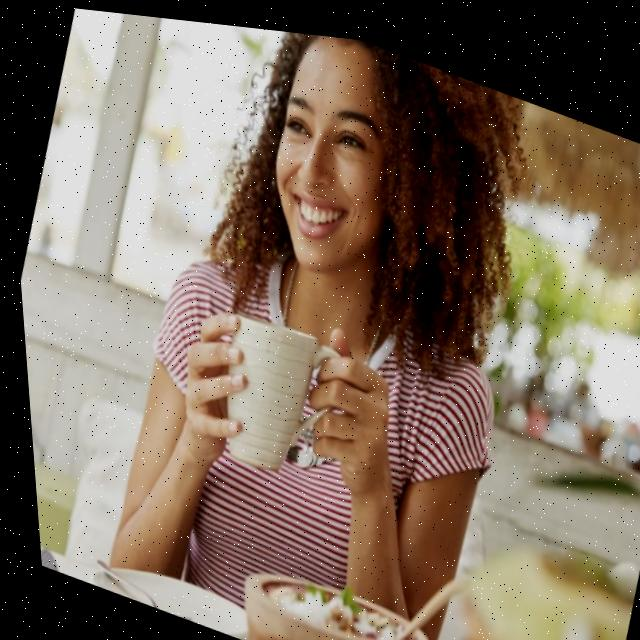eating-person: (37, 3, 614, 640)
